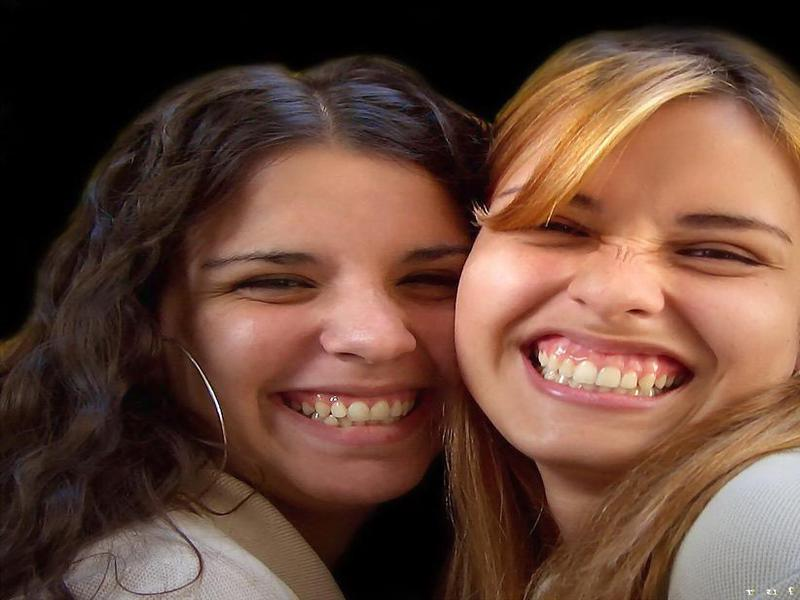person: (12, 58, 462, 600), (452, 19, 800, 600)
